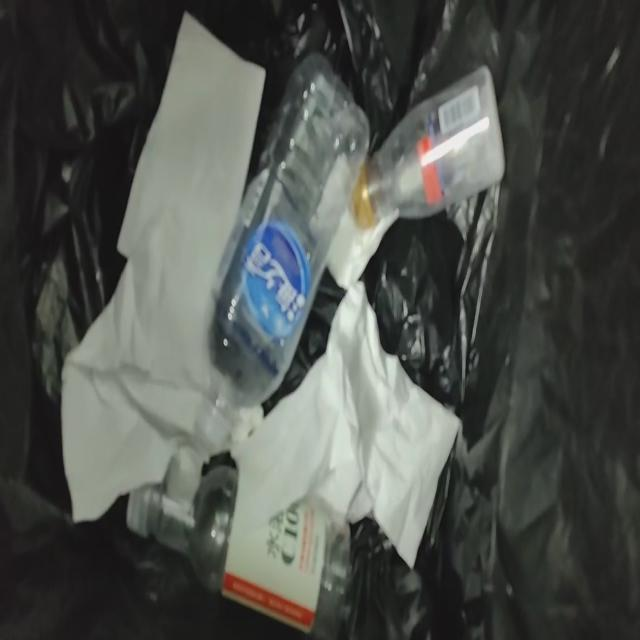bottle: (195, 53, 370, 448), (126, 466, 349, 639), (354, 66, 504, 228)
paper: (62, 16, 264, 521), (212, 283, 461, 567)
